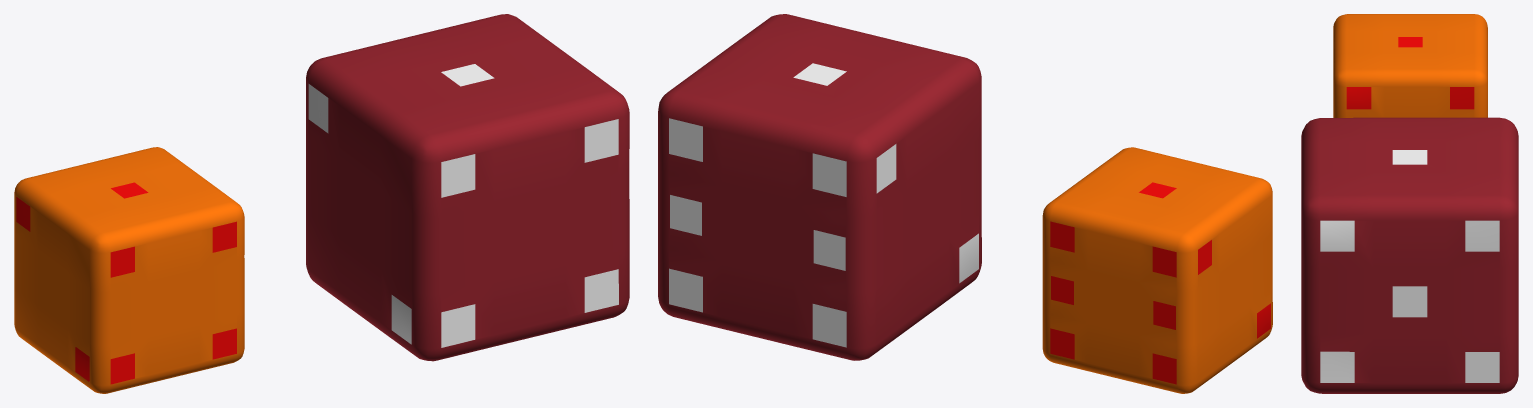
Rendered from Giant Counter.fbx.
3 views of the same model, side by side, from view 1: azimuth 30°, elevation 25°; view 2: azimuth 150°, elevation 25°; view 3: azimuth 270°, elevation 25° (orthographic). The views are drawn at different scales.
Parts seen in each view (by area): view 1: Counter.001, Counter; view 2: Counter.001, Counter; view 3: Counter.001, Counter.
Boxes of the visible parts, left/top/right/bottom form: Counter.001: left=306, top=14, right=629, bottom=361; Counter: left=14, top=147, right=244, bottom=393; Counter.001: left=658, top=14, right=981, bottom=360; Counter: left=1042, top=147, right=1272, bottom=393; Counter.001: left=1301, top=117, right=1518, bottom=393; Counter: left=1333, top=14, right=1487, bottom=117.
Bounding box in the file's own units: 682 × 281 × 281.
